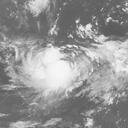cyclone: (24, 46, 78, 95)
